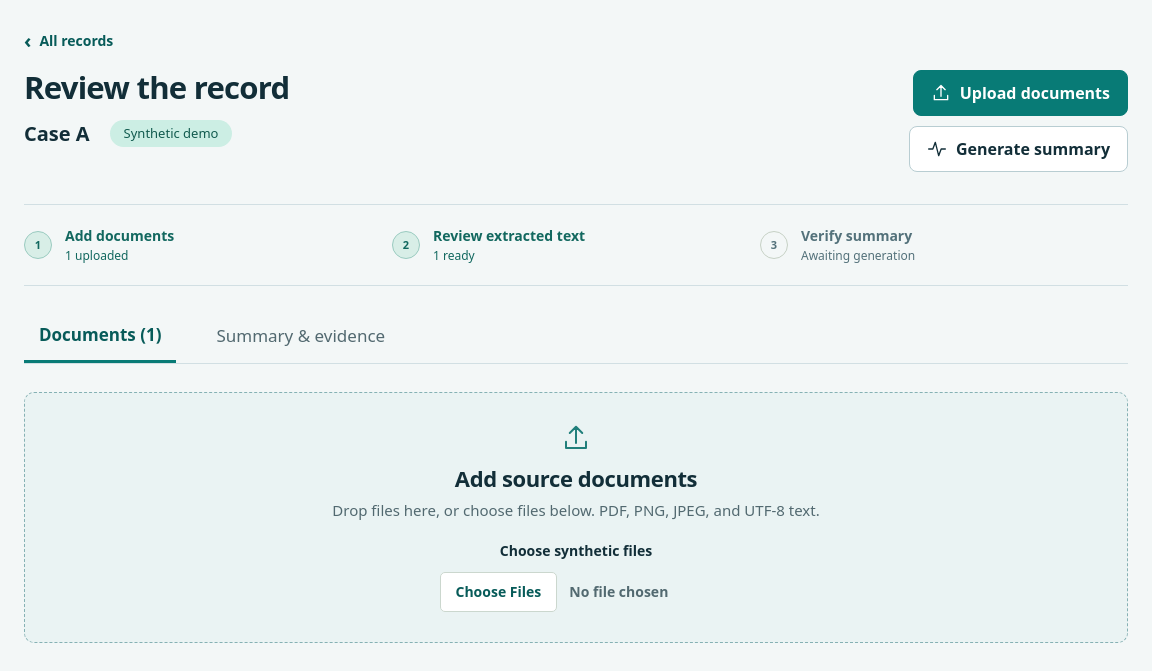
Scenario: opens source text using instant scrolling when reduced motion is requested
Expected: the heading "Review the record" is shown, [24, 70, 289, 106]
Click the tab "Summary & evidence" at (301, 337), box [201, 310, 400, 363]
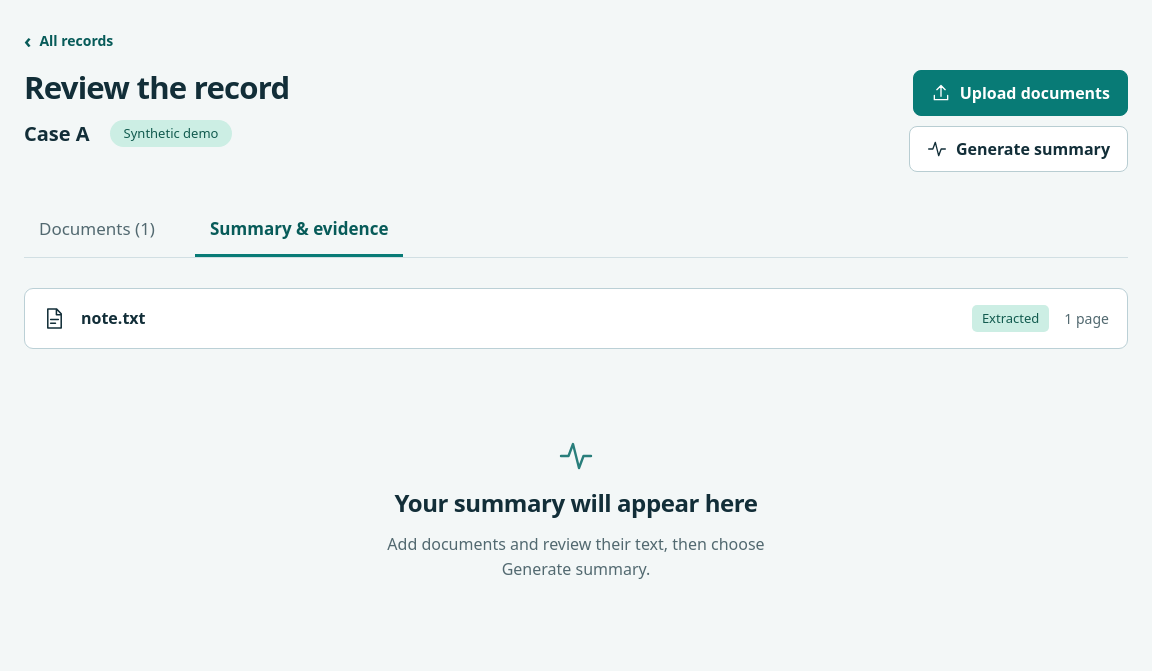
Click the button "note.txt Extracted 1 page" at (113, 318), box [24, 288, 1128, 349]
(page scrolled)
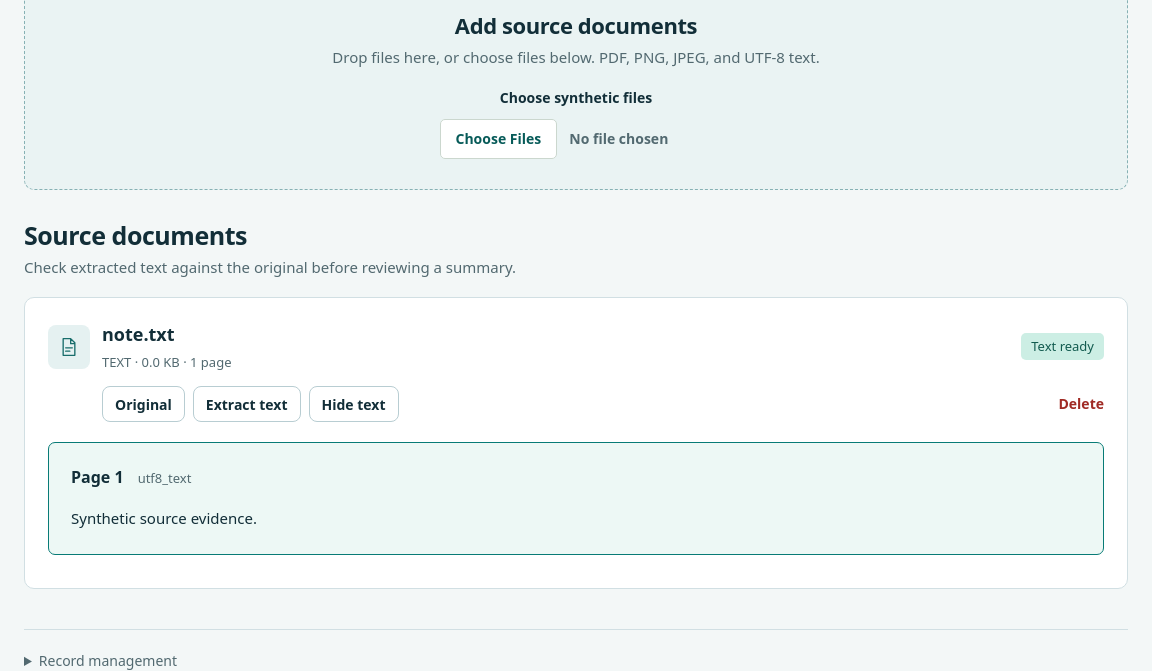
Result: the text "Synthetic source evidence." is shown at [71, 508, 257, 528]
